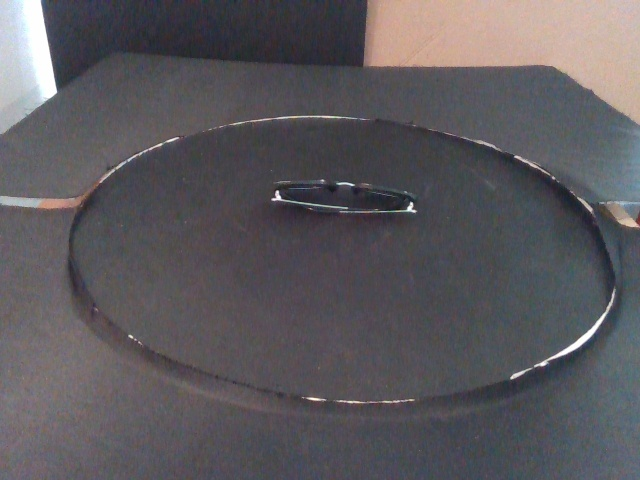glasses: (269, 178, 420, 217)
